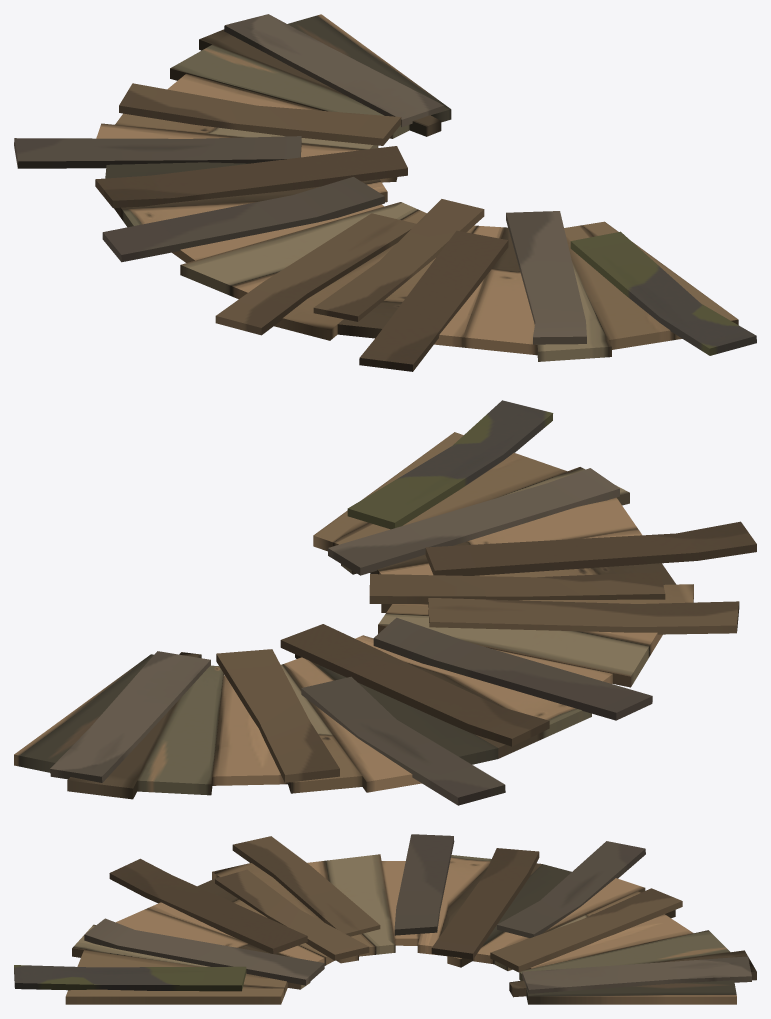
The model's file is SM_Bld_Dock_Round_03.fbx.
3 renders of one model, top to bottom at view 1: azimuth 30°, elevation 25°; view 2: azimuth 150°, elevation 25°; view 3: azimuth 270°, elevation 25°, orthographic. The views are drawn at different scales.
Visible parts, largest first — view 1: SM_Bld_Dock_Round_03; view 2: SM_Bld_Dock_Round_03; view 3: SM_Bld_Dock_Round_03.
Part boxes in pixels (<box>): SM_Bld_Dock_Round_03: <box>14,14,756,371</box>; SM_Bld_Dock_Round_03: <box>14,400,756,805</box>; SM_Bld_Dock_Round_03: <box>14,834,756,1004</box>.
Size of the model in its own units: 407 by 21.16 by 808.
Materials: 1 (1 with a texture image).
